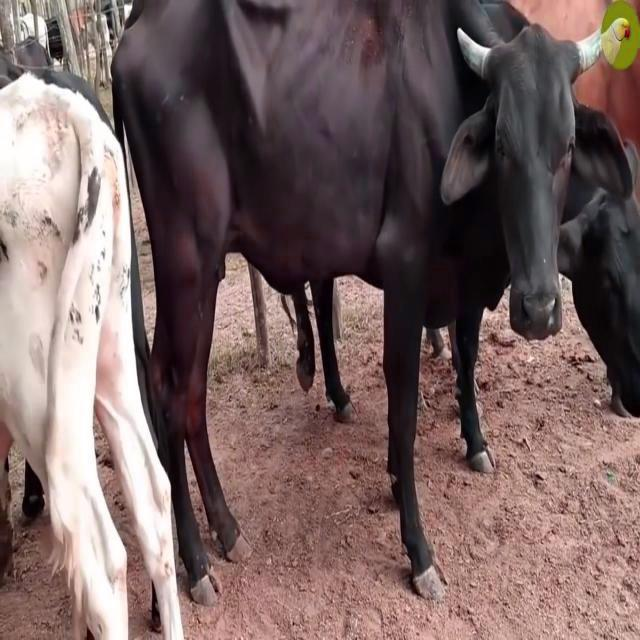cow: (115, 0, 628, 602), (0, 74, 184, 640)
